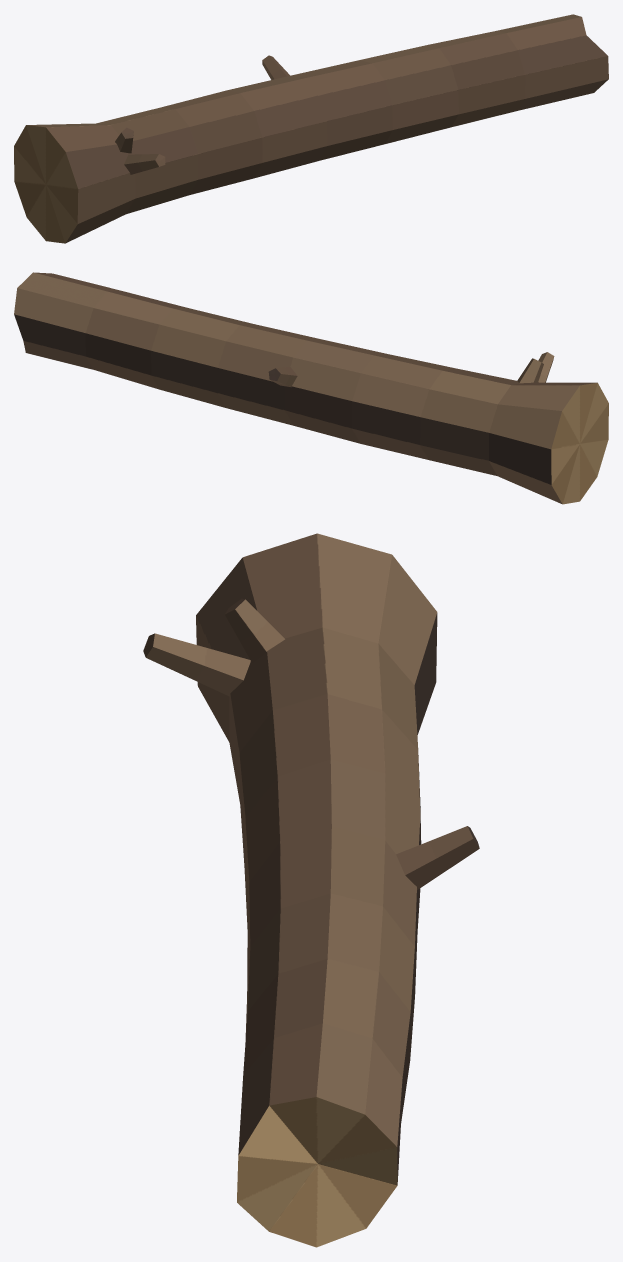
Rendered from SM_Log_Fallen_Long.fbx.
3 views of the same model, one above another, from view 1: azimuth 30°, elevation 25°; view 2: azimuth 150°, elevation 25°; view 3: azimuth 270°, elevation 25° (orthographic). The views are drawn at different scales.
Parts seen in each view (by area): view 1: SM_Log_Fallen_Long_LOD0; view 2: SM_Log_Fallen_Long_LOD0; view 3: SM_Log_Fallen_Long_LOD0.
Part boxes in pixels (left/top/right/bottom): SM_Log_Fallen_Long_LOD0: left=14, top=14, right=608, bottom=243; SM_Log_Fallen_Long_LOD0: left=14, top=272, right=608, bottom=504; SM_Log_Fallen_Long_LOD0: left=143, top=533, right=479, bottom=1247.
Size of what is drawn, in the model's own units: 4.13 by 0.824 by 1.1.
